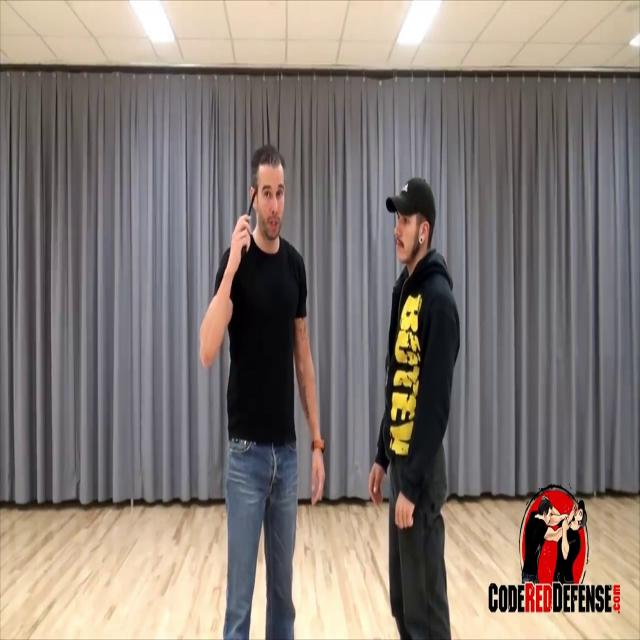Knife_Handle: (228, 184, 259, 270)
